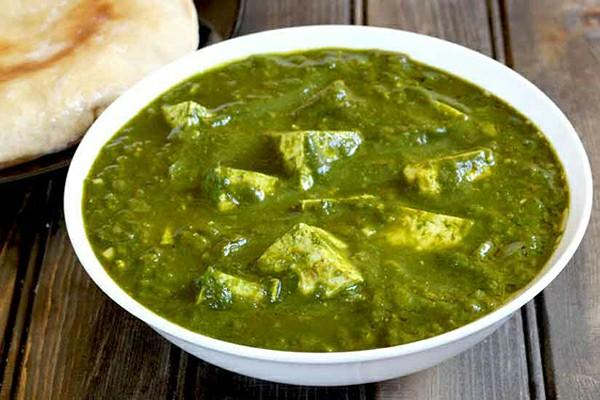PalakPaneer: (82, 48, 565, 355)
